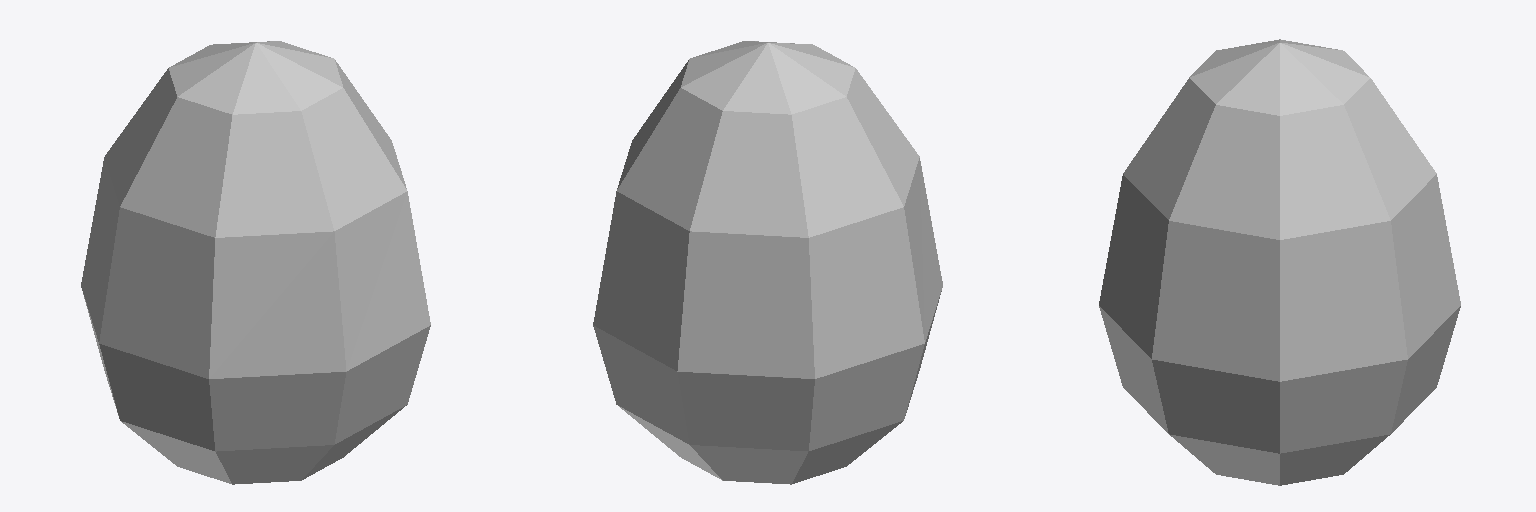
Rendered from egg1.obj.
The picture shows the model from 3 angles: view 1: azimuth 30°, elevation 25°; view 2: azimuth 150°, elevation 25°; view 3: azimuth 270°, elevation 25°; orthographic projection.
Parts seen in each view (by area): view 1: Object.1; view 2: Object.1; view 3: Object.1.
Boxes of the visible parts, x1,y1,x2,y2 form: Object.1: [81, 41, 430, 484]; Object.1: [593, 41, 942, 484]; Object.1: [1099, 39, 1460, 485].
Size of the model in its own units: 1 by 1.3 by 1.